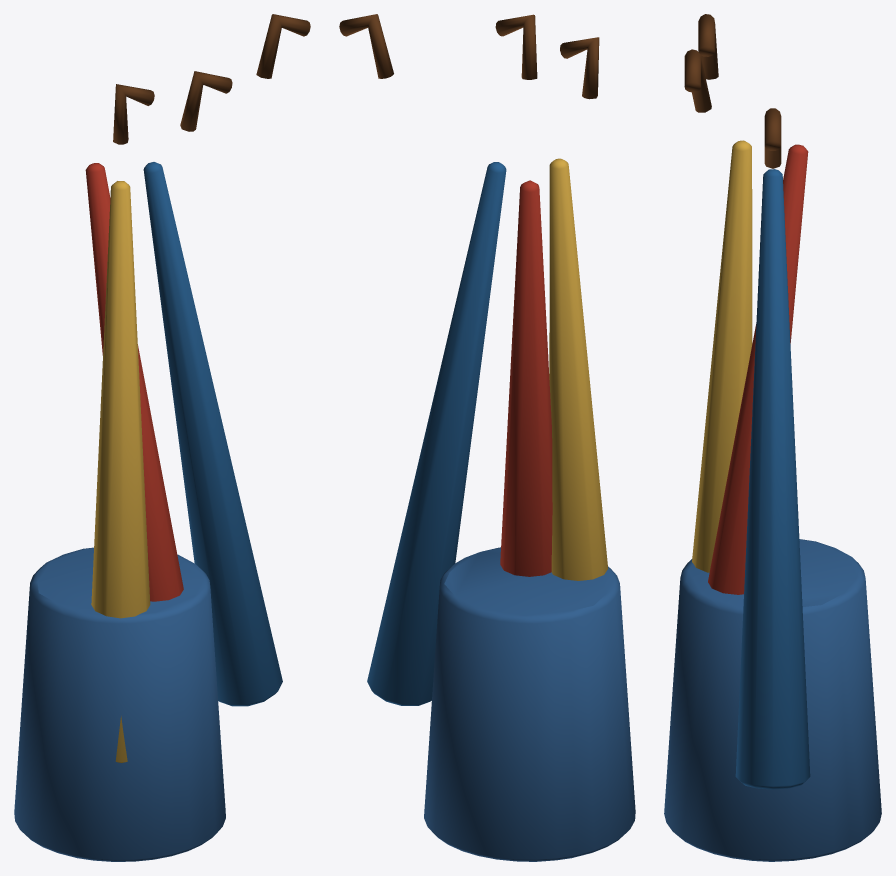
3 renders of one model, left to right at view 1: azimuth 30°, elevation 25°; view 2: azimuth 150°, elevation 25°; view 3: azimuth 270°, elevation 25°, orthographic. The views are drawn at different scales.
Parts seen in each view (by area): view 1: xo_du; view 2: xo_du; view 3: xo_du.
Part boxes in pixels (x1,y1,x2,y2): xo_du: [14, 14, 310, 861]; xo_du: [339, 14, 635, 861]; xo_du: [664, 14, 881, 861].
Size of the model in its own units: 0.3932 by 1.03 by 0.258.
